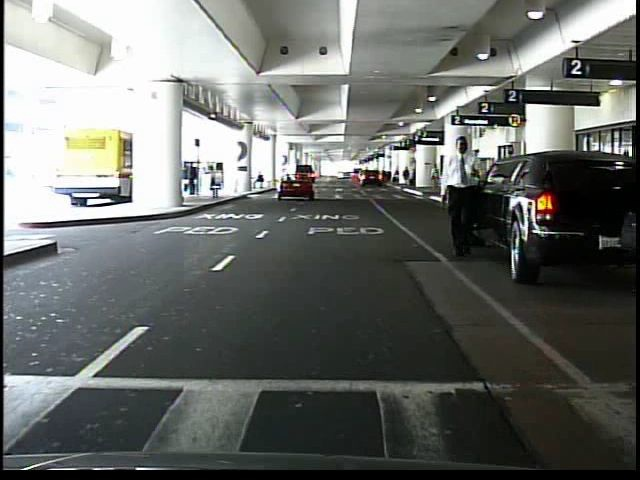person: (439, 134, 482, 257), (186, 159, 200, 196), (429, 163, 442, 190), (402, 166, 412, 188)
